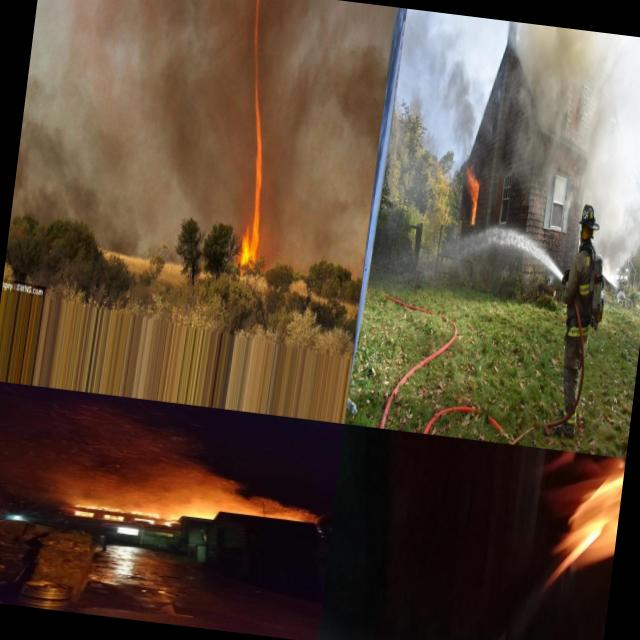fire: (516, 448, 625, 640), (70, 501, 166, 527), (236, 200, 265, 270), (244, 131, 270, 202), (162, 505, 219, 532), (457, 167, 483, 226), (246, 73, 268, 132), (246, 18, 266, 74), (250, 0, 263, 18)
smoke: (11, 0, 207, 233), (259, 0, 395, 268), (496, 22, 621, 174), (177, 0, 253, 223), (391, 9, 488, 159), (22, 446, 190, 509), (135, 482, 320, 522), (94, 225, 178, 261), (224, 128, 252, 232), (190, 462, 248, 502), (260, 21, 288, 75), (262, 76, 280, 134), (261, 0, 289, 21)
